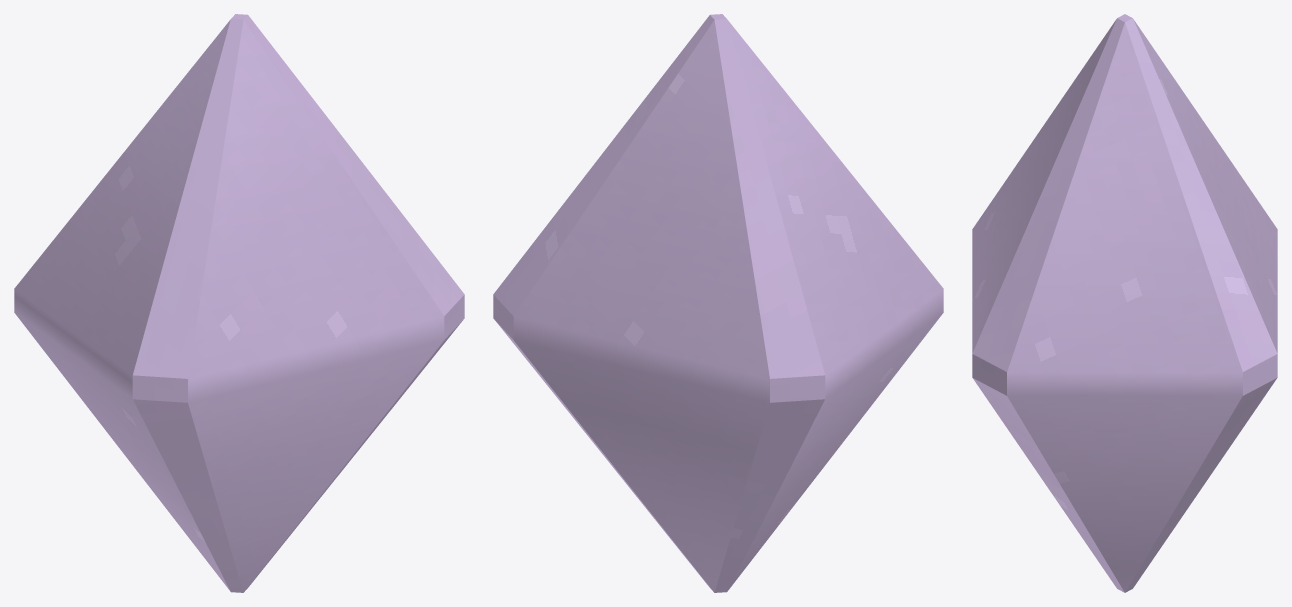
File: item_artifactMemory.glb
3 views of the same model, side by side, from view 1: azimuth 30°, elevation 25°; view 2: azimuth 150°, elevation 25°; view 3: azimuth 270°, elevation 25° (orthographic).
Visible parts, largest first — view 1: Donor_gem-pink_0; view 2: Donor_gem-pink_0; view 3: Donor_gem-pink_0.
Part boxes in pixels (x1,y1,x2,y2): Donor_gem-pink_0: [14, 14, 464, 592]; Donor_gem-pink_0: [493, 14, 943, 592]; Donor_gem-pink_0: [972, 14, 1277, 592].
Bounding box in the file's own units: 0.2 × 0.33 × 0.16.
1 material, 1 textured.
